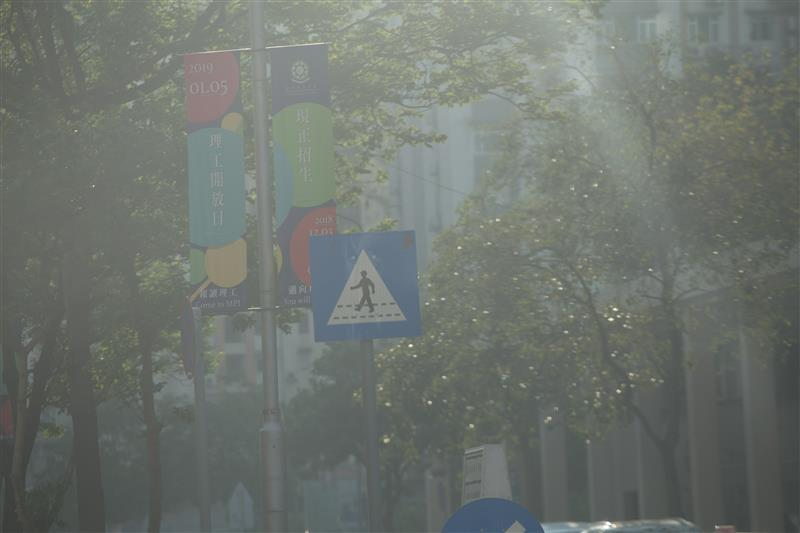pedestrianCrossing: (306, 230, 422, 341)
